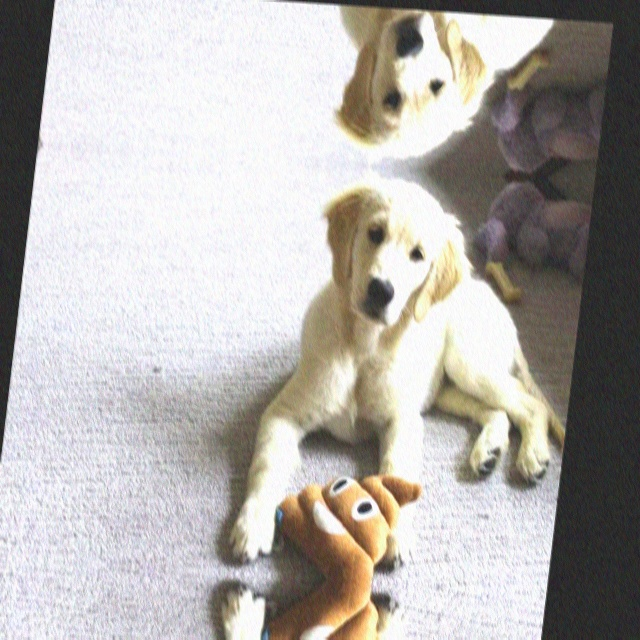dog: (300, 162, 481, 361), (322, 6, 499, 173)
